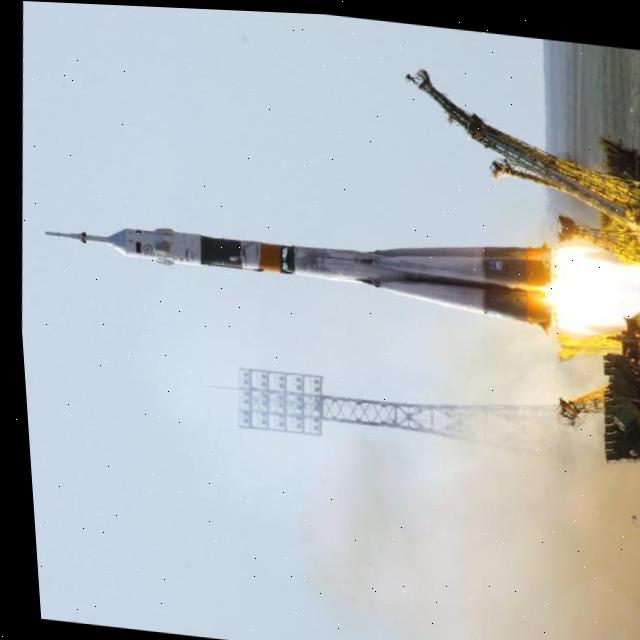missile: (28, 168, 571, 344)
